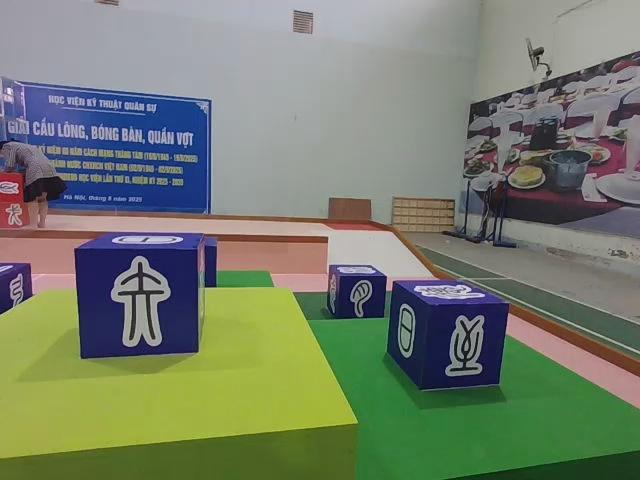R2 Fake Blue: (75, 231, 211, 360), (385, 281, 507, 393), (327, 263, 389, 319), (0, 261, 33, 324)
